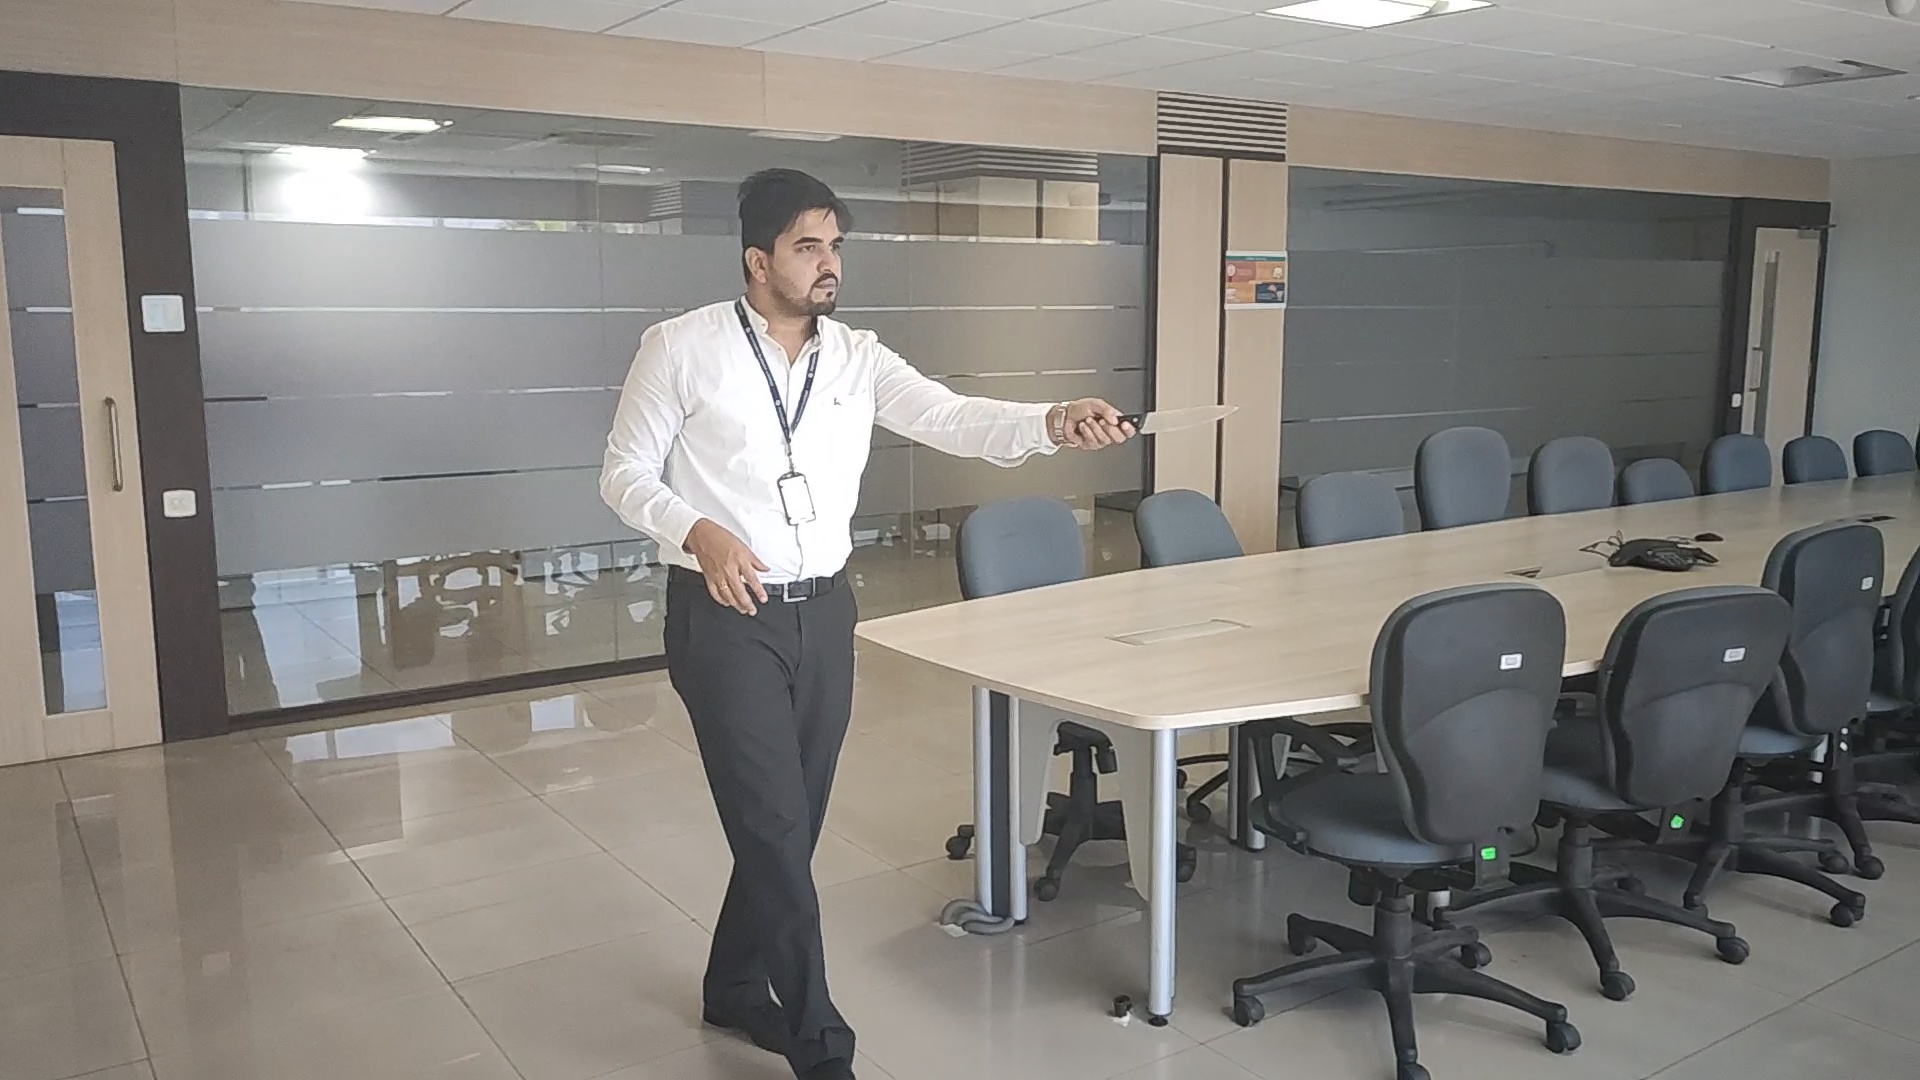knife: (1137, 404, 1240, 435)
